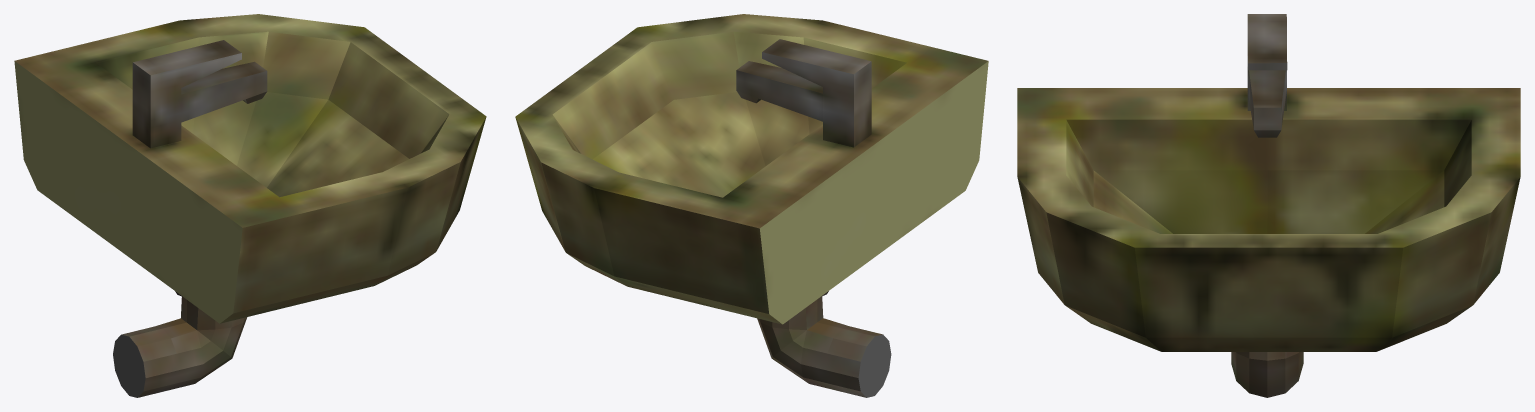
The model's file is sink.fbx.
The picture shows the model from 3 angles, left to right: view 1: azimuth 30°, elevation 25°; view 2: azimuth 150°, elevation 25°; view 3: azimuth 270°, elevation 25°; orthographic projection. The views are drawn at different scales.
Parts seen in each view (by area): view 1: sink; view 2: sink; view 3: sink.
Part boxes in pixels (x1,y1,x2,y2): sink: [14, 14, 486, 397]; sink: [515, 14, 988, 397]; sink: [1017, 14, 1520, 397].
Bounding box in the file's own units: 0.4507 × 0.47 × 0.6.
Materials: 1 (1 with a texture image).
